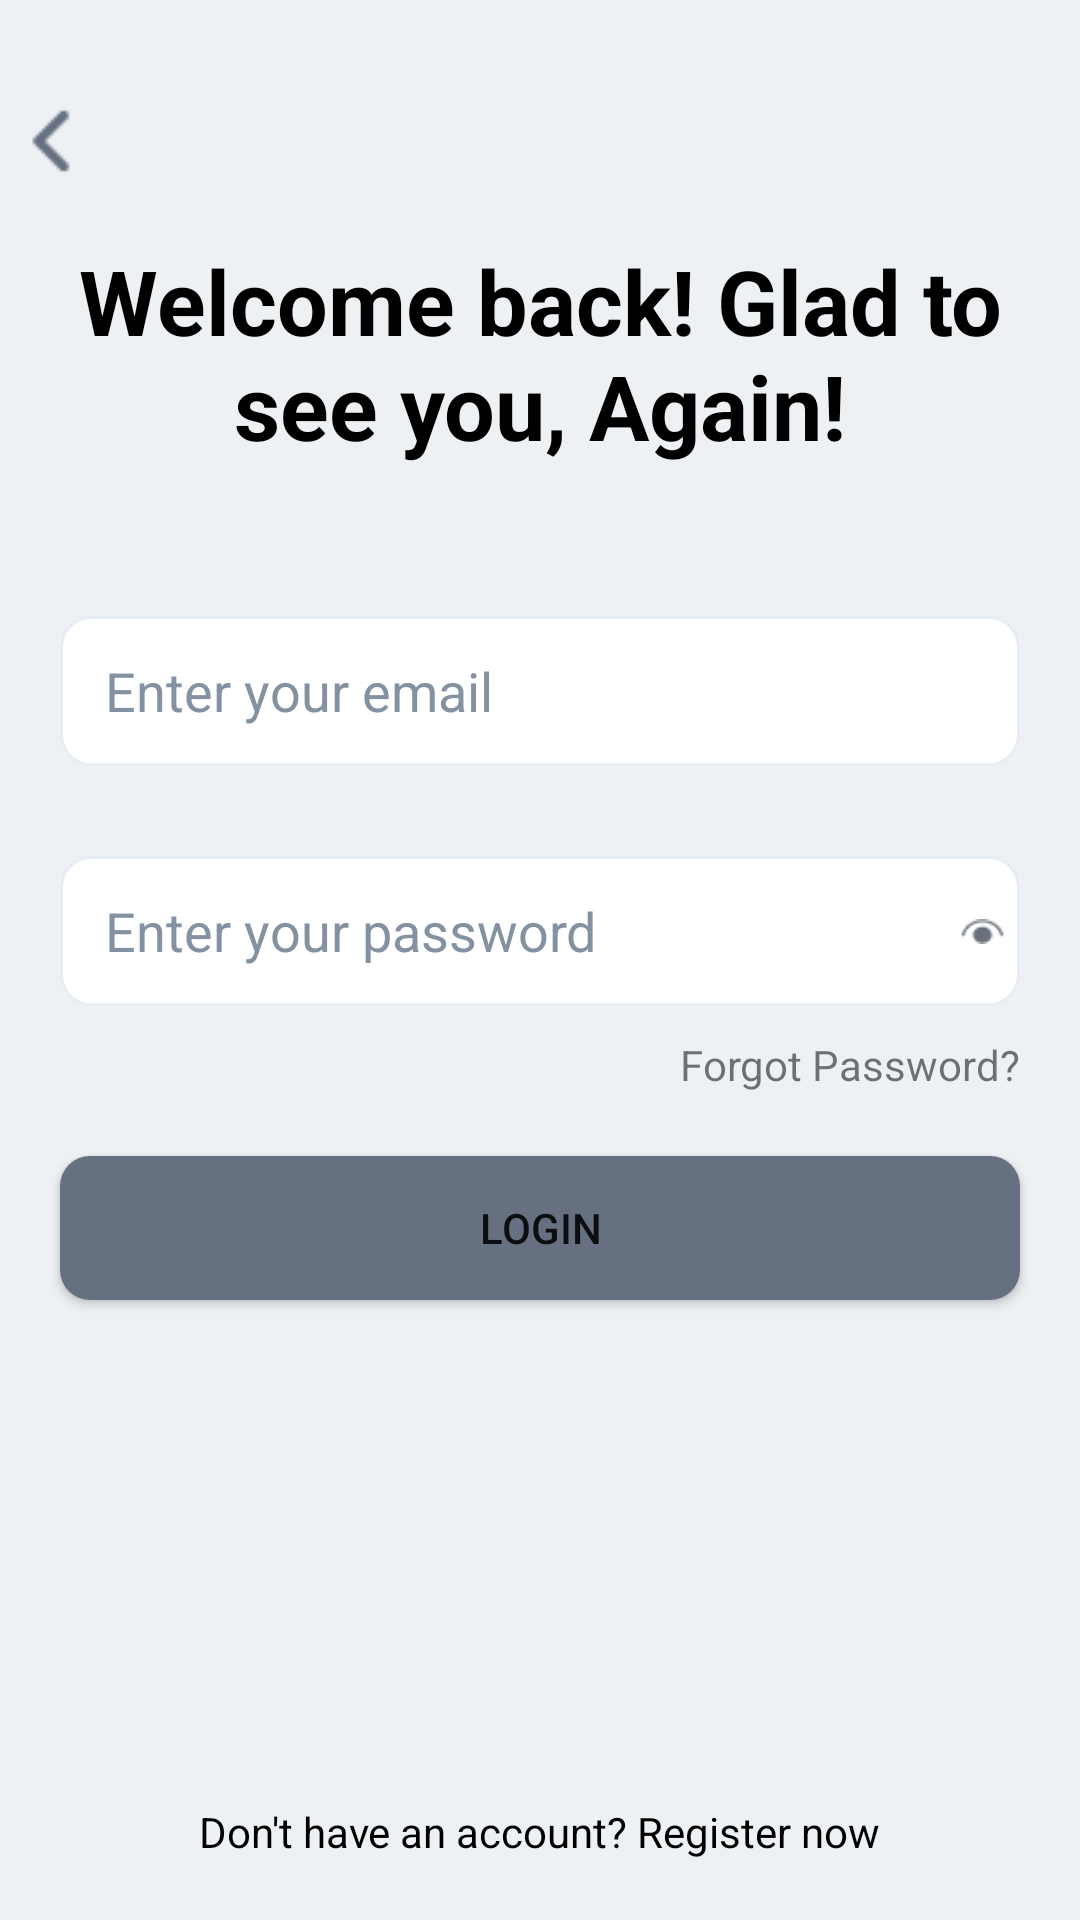

Screen size 1080×1920. Icon name, then its center in pixels as [x,y]:
eye: [982,931]
